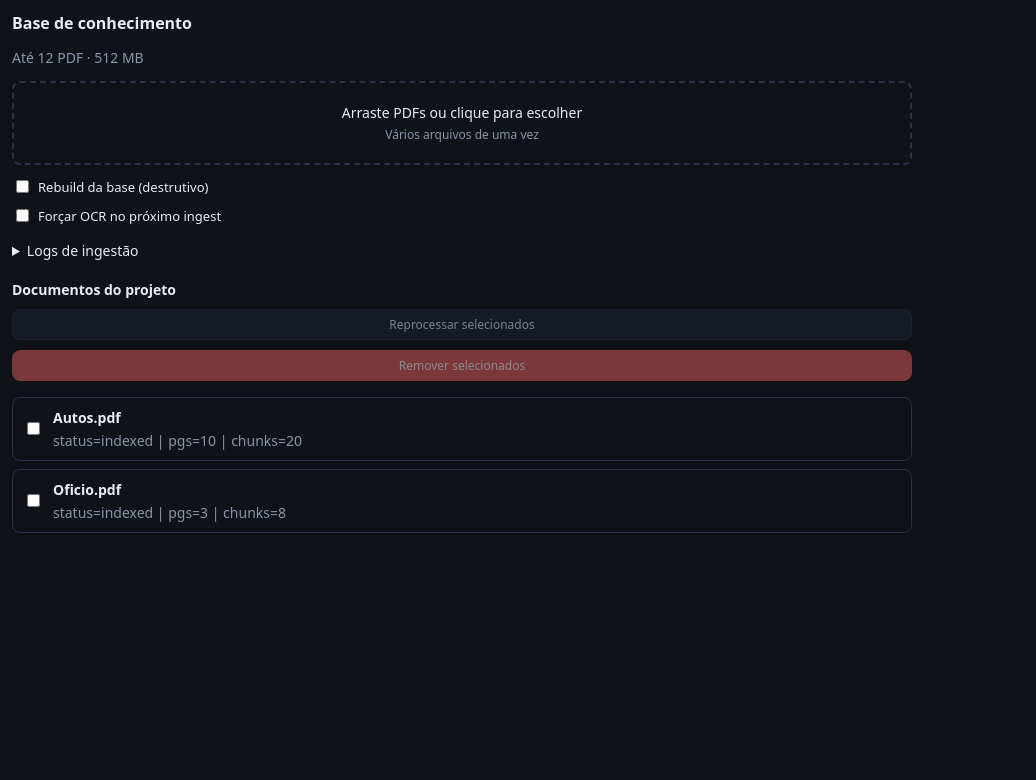
Test: documents panel selection actions › reprocesses only selected documents and forwards OCR flag
Expected: the text "Autos.pdf" is shown, [53,408,121,427]
Click the checkbox labelled "Forçar OCR no próximo ingest": coordinates (22, 216) [16,209,29,222]
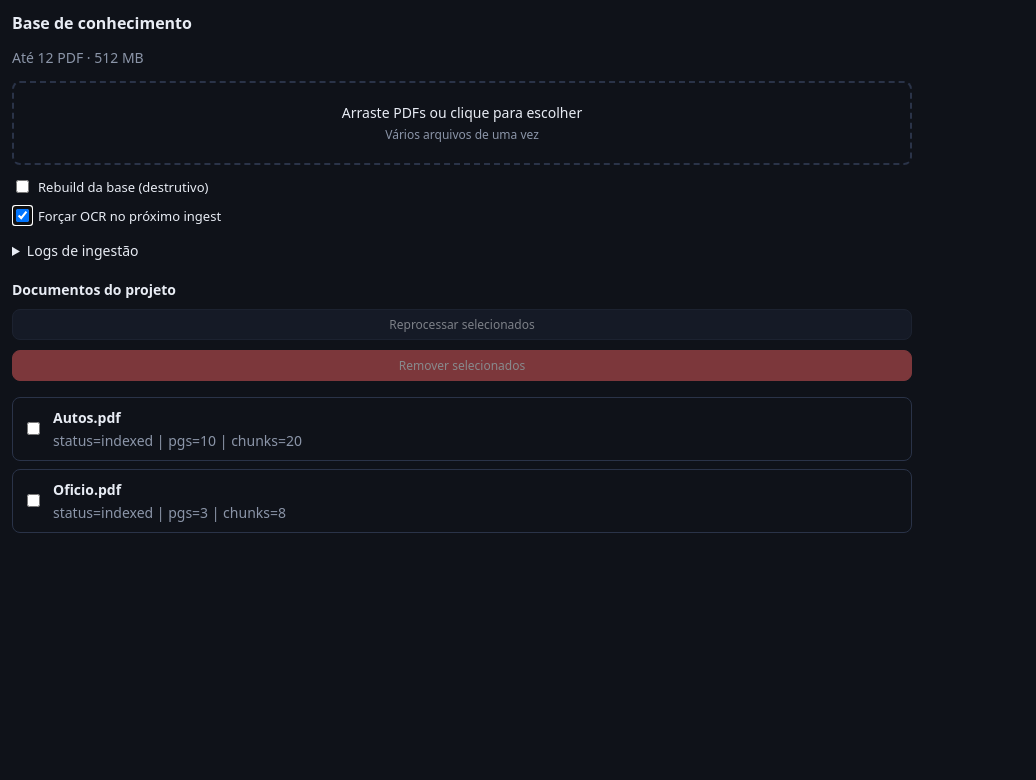
Click the checkbox named "Selecionar Autos.pdf": coordinates (34, 428) [27,422,40,435]
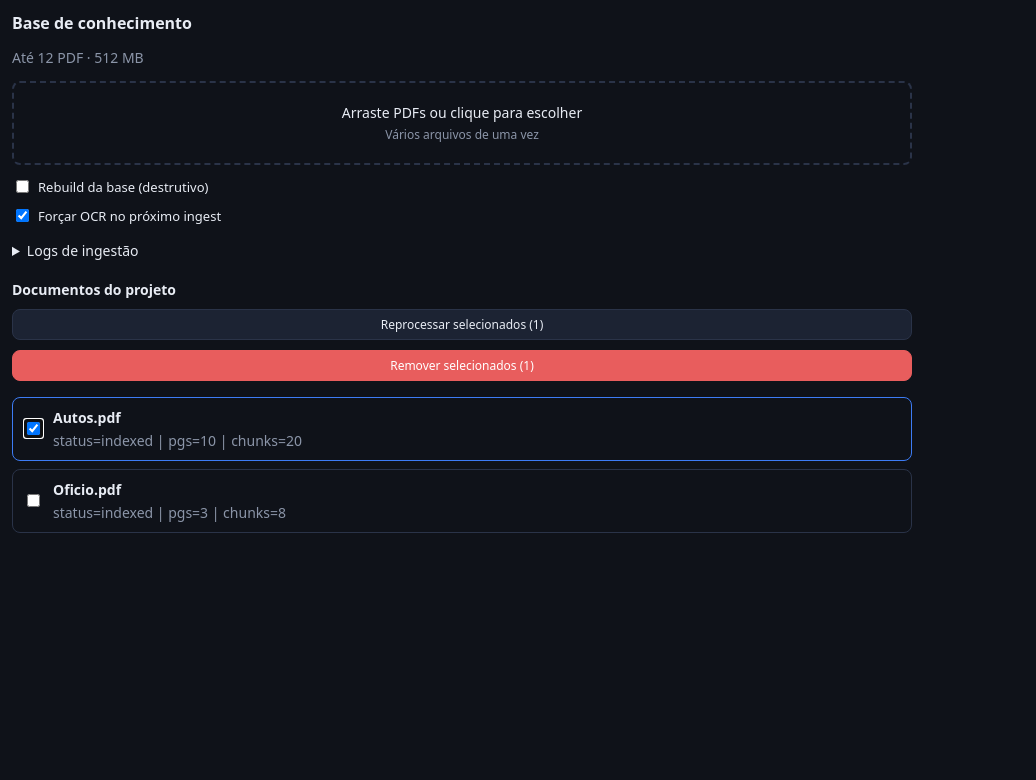
Click the checkbox named "Selecionar Oficio.pdf": coordinates (34, 500) [27,494,40,507]
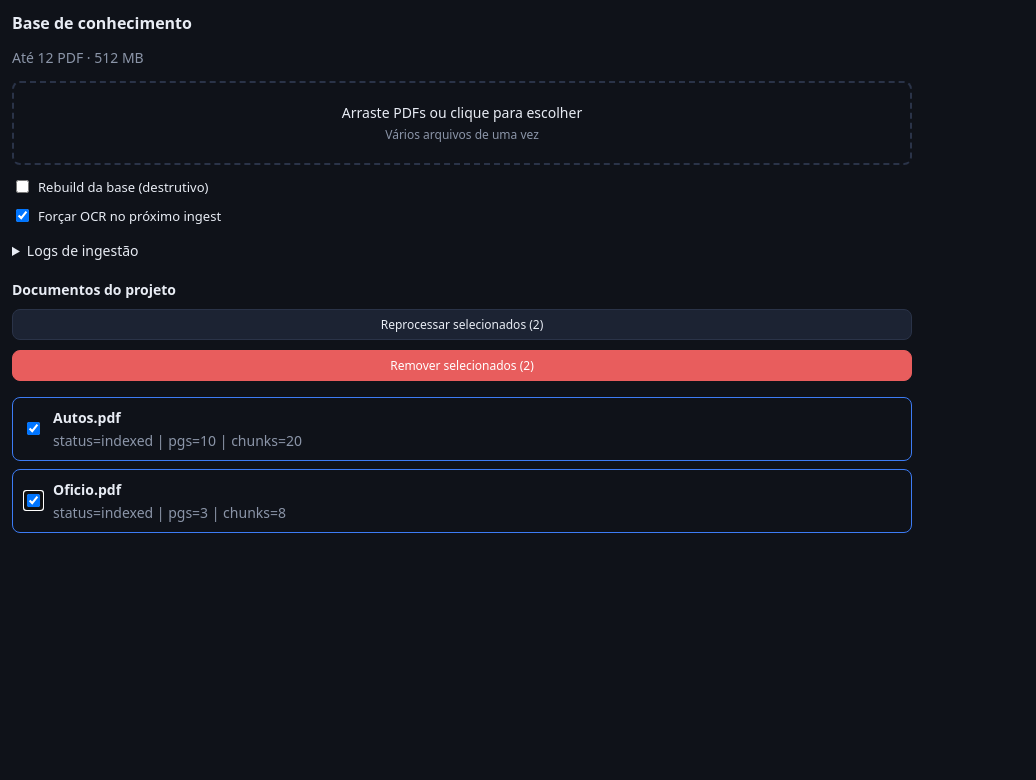
Click the button "Reprocessar selecionados (2)": coordinates (462, 324) [12,309,912,340]
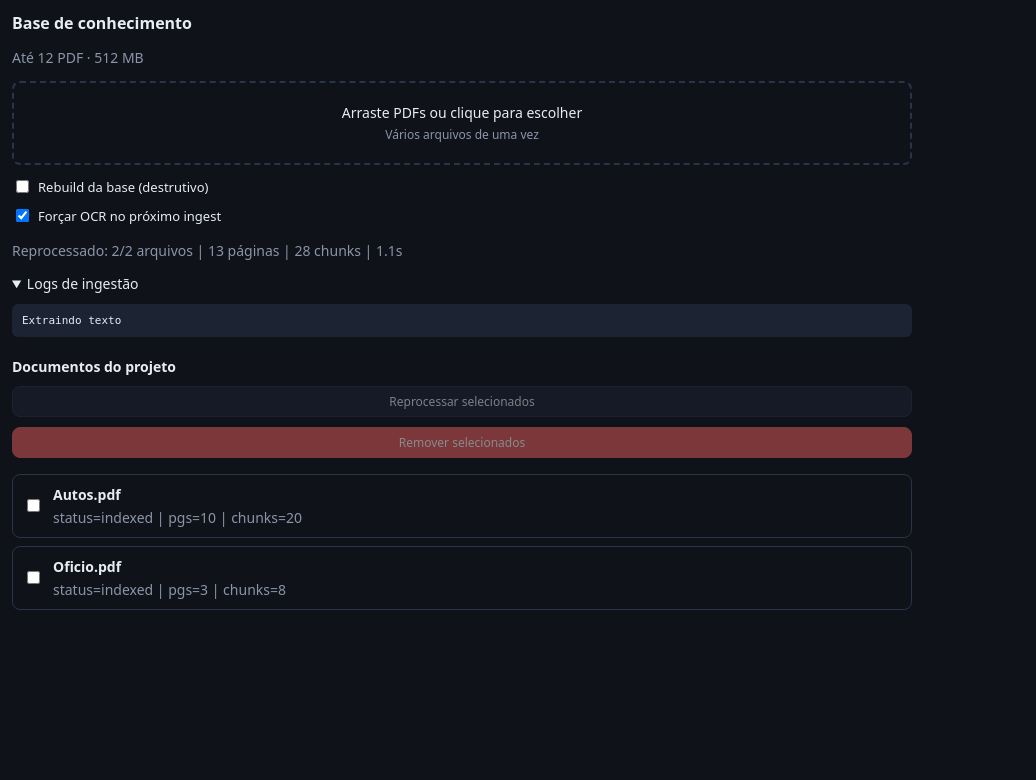
Now the text "Reprocessado: 2/2 arquivos | 13 páginas | 28 chunks | 1.1s" is shown, box [12,241,402,260]
